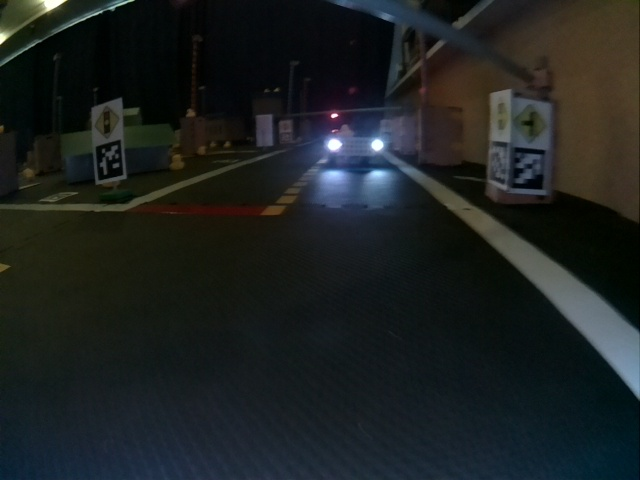Duckie: (170, 157, 184, 169), (338, 126, 354, 136), (24, 168, 34, 178), (196, 146, 206, 155), (187, 109, 195, 117)
Duckiebot: (325, 134, 383, 165)
Intersection sign: (514, 103, 550, 141)
QR code: (510, 147, 548, 194), (94, 141, 125, 182), (487, 142, 508, 189), (43, 192, 79, 201), (213, 156, 238, 164), (279, 133, 291, 143)
Signal sign: (92, 104, 123, 138)
Traffic light: (330, 110, 339, 120)
